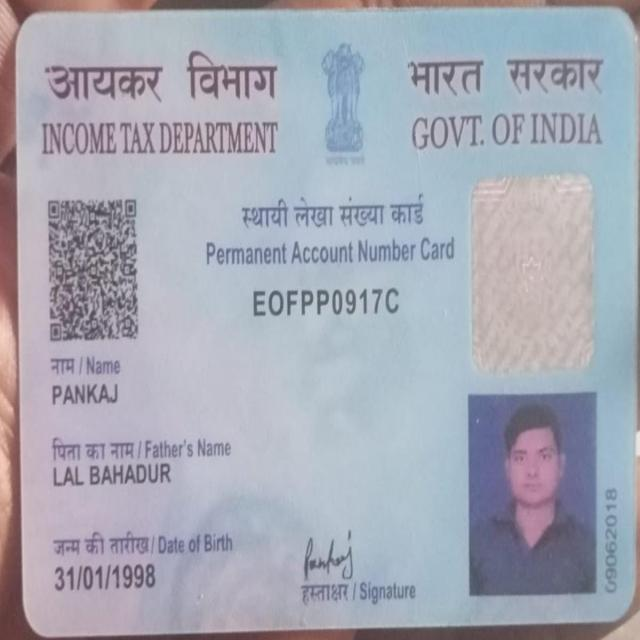pan_card: (20, 15, 633, 620)
